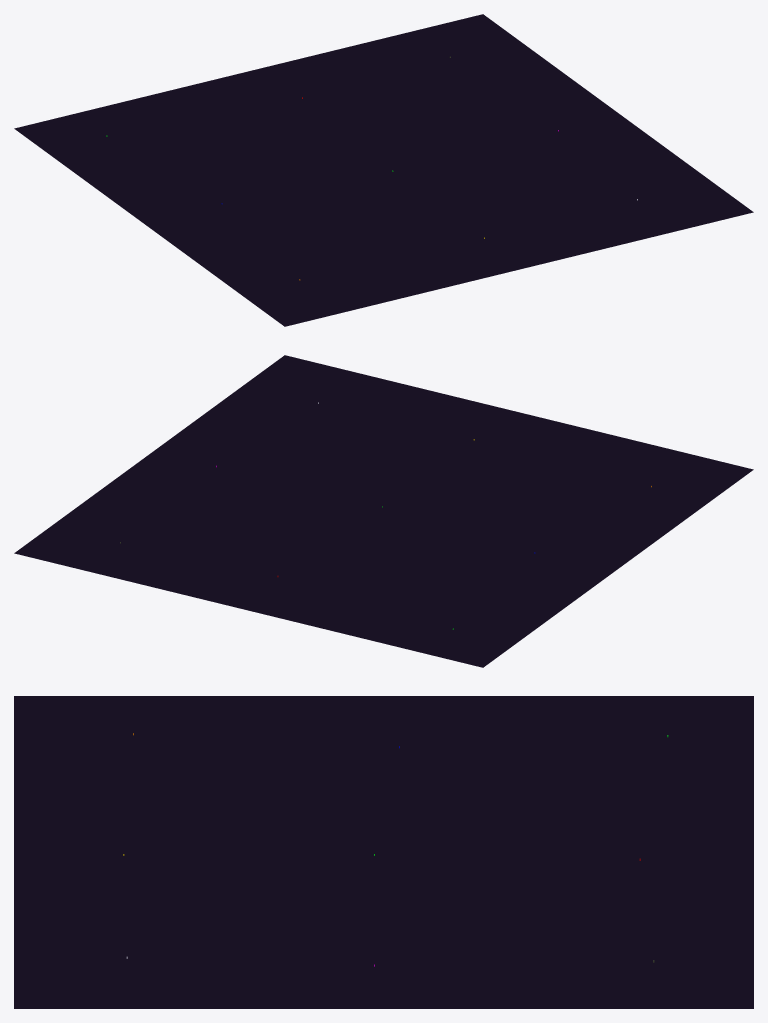
Rendered from debug.glb.
The picture shows the model from 3 angles, top to bottom: view 1: azimuth 30°, elevation 25°; view 2: azimuth 150°, elevation 25°; view 3: azimuth 270°, elevation 25°; orthographic projection. The views are drawn at different scales.
Visible parts, largest first — view 1: terrain.002, terrain.003, terrain.004, terrain.001, terrain.007, terrain.006, terrain, terrain.005, terrain.008; view 2: terrain.003, terrain.004, terrain.002, terrain.001, terrain.005, terrain.008, terrain, terrain.007, terrain.006; view 3: terrain, terrain.001, terrain.002, terrain.003, terrain.004, terrain.005, terrain.006, terrain.007, terrain.008.
Part boxes in pixels (bbox=[...]): terrain.002: bbox=[104, 156, 350, 260]; terrain.003: bbox=[351, 184, 597, 288]; terrain.004: bbox=[170, 52, 416, 156]; terrain.001: bbox=[417, 80, 663, 184]; terrain.007: bbox=[14, 90, 260, 194]; terrain.006: bbox=[507, 146, 753, 250]; terrain: bbox=[261, 118, 506, 222]; terrain.005: bbox=[327, 14, 572, 118]; terrain.008: bbox=[195, 222, 440, 326]; terrain.003: bbox=[351, 393, 597, 497]; terrain.004: bbox=[170, 525, 416, 629]; terrain.002: bbox=[417, 497, 663, 601]; terrain.001: bbox=[104, 421, 350, 525]; terrain.005: bbox=[14, 487, 260, 591]; terrain.008: bbox=[507, 431, 753, 535]; terrain: bbox=[261, 459, 506, 563]; terrain.007: bbox=[327, 563, 572, 667]; terrain.006: bbox=[195, 355, 440, 459]; terrain: bbox=[260, 800, 507, 904]; terrain.001: bbox=[260, 904, 507, 1008]; terrain.002: bbox=[260, 696, 507, 800]; terrain.003: bbox=[14, 800, 260, 904]; terrain.004: bbox=[507, 800, 753, 904]; terrain.005: bbox=[507, 904, 753, 1008]; terrain.006: bbox=[14, 904, 260, 1008]; terrain.007: bbox=[507, 696, 753, 800]; terrain.008: bbox=[14, 696, 260, 800].
Size of the model in its own units: 1536 by 4 by 1536.
